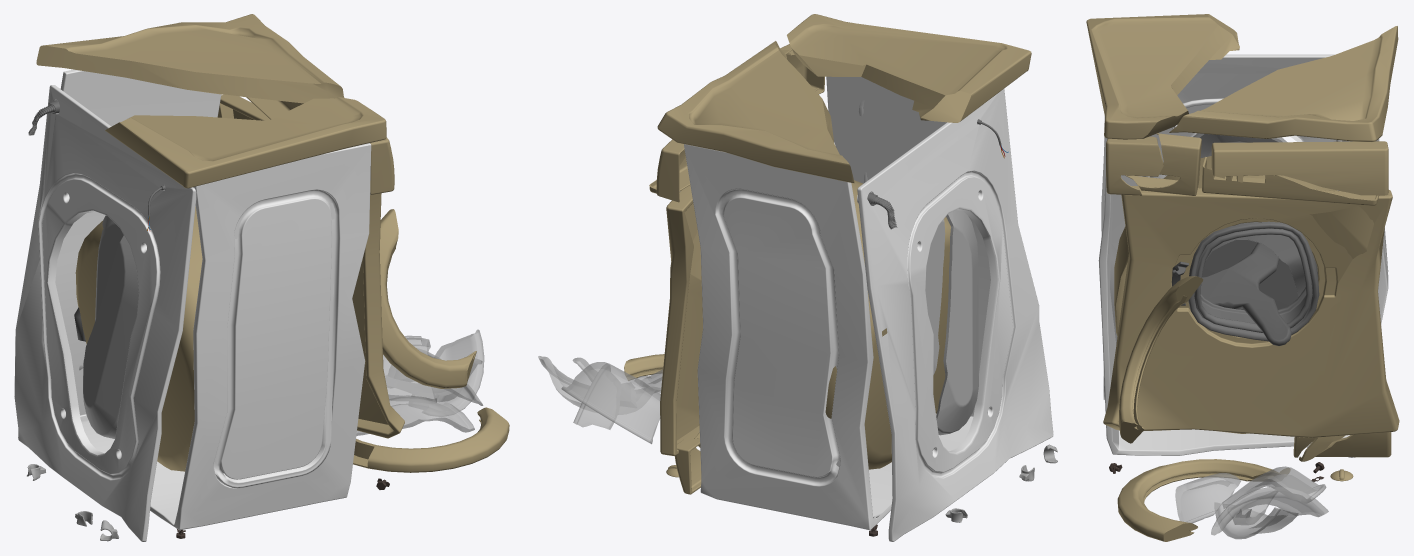
The model's file is old.fbx.
3 views of the same model, side by side, from view 1: azimuth 30°, elevation 25°; view 2: azimuth 150°, elevation 25°; view 3: azimuth 270°, elevation 25° (orthographic). The views are drawn at different scales.
Visible parts, largest first — view 1: polySurface135, pCube44, polySurface151, polySurface156, polySurface133, pCylinder1042, polySurface132, pPlane32, polySurface127, shard8, shard6, shard9 (+5 smaller); view 2: polySurface135, pCube44, polySurface156, polySurface151, polySurface132, pCylinder1042, polySurface133, shard9, shard10, pPlane14, shard8, polySurface172 (+2 smaller); view 3: polySurface132, polySurface151, polySurface156, polySurface172, polySurface135, polySurface138, pCube44, pPlane32, polySurface136, polySurface127, polySurface171, polySurface148 (+12 smaller).
Boxes of the visible parts, left/top/right/bottom form: polySurface135: left=55, top=69, right=371, bottom=530; pCube44: left=14, top=85, right=196, bottom=541; polySurface151: left=36, top=14, right=343, bottom=103; polySurface156: left=105, top=97, right=386, bottom=188; polySurface133: left=75, top=206, right=202, bottom=471; pCylinder1042: left=83, top=235, right=138, bottom=438; polySurface132: left=217, top=94, right=404, bottom=438; pPlane32: left=353, top=407, right=509, bottom=472; polySurface127: left=379, top=209, right=476, bottom=388; shard8: left=409, top=329, right=484, bottom=416; shard6: left=356, top=396, right=474, bottom=435; shard9: left=383, top=335, right=436, bottom=403; polySurface135: left=684, top=76, right=990, bottom=530; pCube44: left=857, top=89, right=1053, bottom=541; polySurface156: left=787, top=14, right=1031, bottom=122; polySurface151: left=657, top=41, right=854, bottom=182; polySurface132: left=660, top=185, right=702, bottom=456; pCylinder1042: left=936, top=210, right=978, bottom=435; polySurface133: left=825, top=180, right=950, bottom=469; shard9: left=561, top=362, right=660, bottom=444; shard10: left=573, top=364, right=620, bottom=429; pPlane14: left=925, top=219, right=945, bottom=374; shard8: left=538, top=356, right=660, bottom=414; polySurface172: left=656, top=139, right=685, bottom=202; polySurface132: left=1103, top=186, right=1399, bottom=437; polySurface151: left=1169, top=26, right=1398, bottom=142; polySurface156: left=1086, top=14, right=1239, bottom=139; polySurface172: left=1211, top=141, right=1388, bottom=195; polySurface135: left=1098, top=116, right=1388, bottom=457; polySurface138: left=1188, top=221, right=1319, bottom=341; pCube44: left=1110, top=54, right=1352, bottom=343; pPlane32: left=1117, top=459, right=1281, bottom=541; polySurface136: left=1201, top=242, right=1291, bottom=345; polySurface127: left=1118, top=276, right=1203, bottom=443; polySurface171: left=1202, top=157, right=1378, bottom=205; polySurface148: left=1125, top=133, right=1201, bottom=195.
Bounding box in the file's own units: 29.31 × 24 × 18.72.
